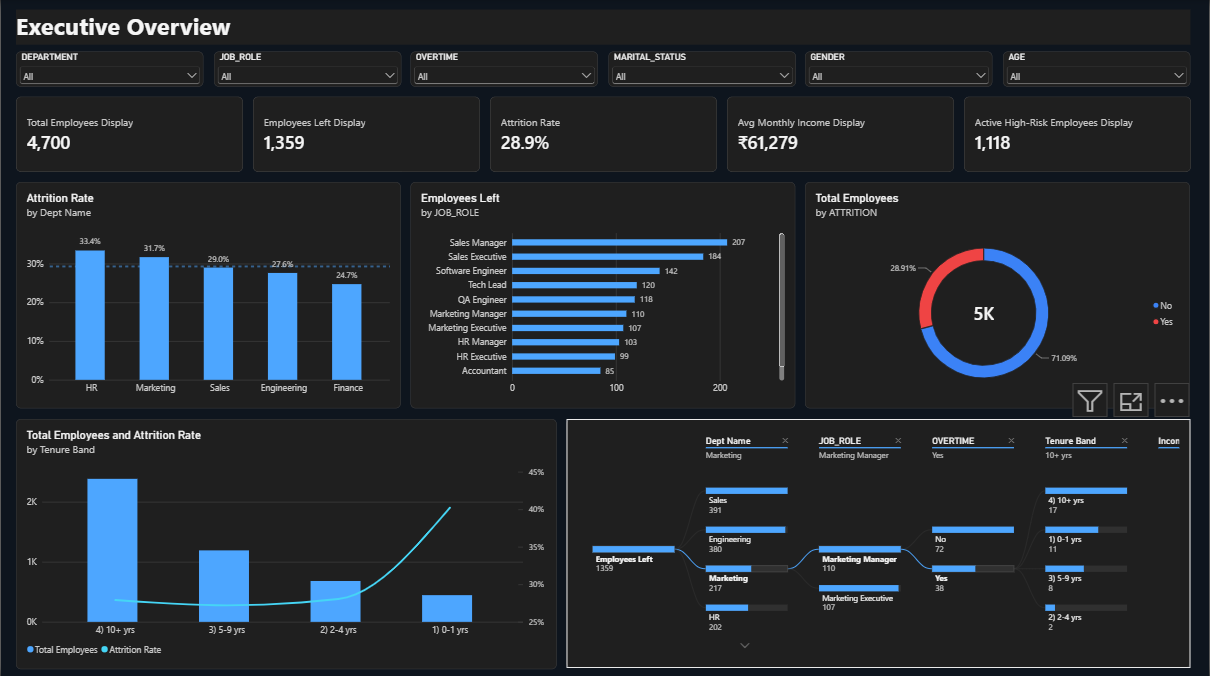

Layout of this report page (visuals, bound fields, positions):
{"tool":"powerbi","page":{"name":"Executive Overview","canvas":[1920,1080],"ordinal":0},"visuals":[{"type":"cardVisual","fields":{"Data":["HR_ATTRITION_FINAL.Total Employees Display"]},"box":[24,156,361,120],"z":0},{"type":"cardVisual","fields":{"Data":["HR_ATTRITION_FINAL.Employees Left Display"]},"box":[401,156,361,120],"z":1000},{"type":"cardVisual","fields":{"Data":["_Measures.Attrition Rate"]},"box":[778,156,361,120],"z":2000},{"type":"cardVisual","fields":{"Data":["HR_ATTRITION_FINAL.Avg Monthly Income Display"]},"box":[1155,156,361,120],"z":3000},{"type":"cardVisual","fields":{"Data":["HR_ATTRITION_FINAL.Active High-Risk Employees Display"]},"box":[1532,156,361,120],"z":4000},{"type":"slicer","fields":{"Values":["HR_ATTRITION_FINAL.JOB_ROLE"]},"box":[338,84,298,56],"z":5000},{"type":"slicer","fields":{"Values":["HR_ATTRITION_FINAL.OVERTIME"]},"box":[652,84,298,56],"z":6000},{"type":"slicer","fields":{"Values":["HR_ATTRITION_FINAL.AGE"]},"box":[1594,84,298,56],"z":7000},{"type":"slicer","fields":{"Values":["HR_ATTRITION_FINAL.MARITAL_STATUS"]},"box":[966,84,298,56],"z":8000},{"type":"slicer","fields":{"Values":["HR_ATTRITION_FINAL.GENDER"]},"box":[1280,84,298,56],"z":9000},{"type":"slicer","fields":{"Values":["HR_ATTRITION_FINAL.DEPARTMENT"]},"box":[24,84,298,56],"z":10000},{"type":"clusteredColumnChart","fields":{"Category":["HR_ATTRITION_FINAL.Dept Name"],"Y":["_Measures.Attrition Rate"]},"box":[24,292,612,360],"z":11000},{"type":"donutChart","fields":{"Category":["HR_ATTRITION_FINAL.ATTRITION"],"Y":["_Measures.Total Employees"]},"box":[1280,292,612,360],"z":12000},{"type":"clusteredBarChart","fields":{"Category":["HR_ATTRITION_FINAL.JOB_ROLE"],"Y":["_Measures.Employees Left"]},"box":[652,292,612,360],"z":13000},{"type":"lineClusteredColumnComboChart","fields":{"Category":["HR_ATTRITION_FINAL.Tenure Band"],"Y":["_Measures.Total Employees"],"Y2":["_Measures.Attrition Rate"]},"box":[24,668,860,398],"z":14000},{"type":"decompositionTreeVisual","fields":{"Analyze":["_Measures.Employees Left"],"ExplainBy":["HR_ATTRITION_FINAL.Dept Name","HR_ATTRITION_FINAL.JOB_ROLE","HR_ATTRITION_FINAL.OVERTIME","HR_ATTRITION_FINAL.Tenure Band","HR_ATTRITION_FINAL.Income Band"]},"box":[900,668,992,396],"z":15000},{"type":"textbox","box":[24,16,1868,56],"z":16000}]}

Visuals, with their boxes in screenshot pixels (x1, y1, x2, y2), scaled from the page's 1920x1080 canvas onto the 1210x676 screenshot:
cardVisual - HR_ATTRITION_FINAL.Total Employees Display: select_region(15, 98, 243, 173)
cardVisual - HR_ATTRITION_FINAL.Employees Left Display: select_region(253, 98, 480, 173)
cardVisual - _Measures.Attrition Rate: select_region(490, 98, 718, 173)
cardVisual - HR_ATTRITION_FINAL.Avg Monthly Income Display: select_region(728, 98, 955, 173)
cardVisual - HR_ATTRITION_FINAL.Active High-Risk Employees Display: select_region(965, 98, 1193, 173)
slicer - HR_ATTRITION_FINAL.JOB_ROLE: select_region(213, 53, 401, 88)
slicer - HR_ATTRITION_FINAL.OVERTIME: select_region(411, 53, 599, 88)
slicer - HR_ATTRITION_FINAL.AGE: select_region(1005, 53, 1192, 88)
slicer - HR_ATTRITION_FINAL.MARITAL_STATUS: select_region(609, 53, 797, 88)
slicer - HR_ATTRITION_FINAL.GENDER: select_region(807, 53, 994, 88)
slicer - HR_ATTRITION_FINAL.DEPARTMENT: select_region(15, 53, 203, 88)
clusteredColumnChart - HR_ATTRITION_FINAL.Dept Name x _Measures.Attrition Rate: select_region(15, 183, 401, 408)
donutChart - HR_ATTRITION_FINAL.ATTRITION x _Measures.Total Employees: select_region(807, 183, 1192, 408)
clusteredBarChart - HR_ATTRITION_FINAL.JOB_ROLE x _Measures.Employees Left: select_region(411, 183, 797, 408)
lineClusteredColumnComboChart - HR_ATTRITION_FINAL.Tenure Band x _Measures.Total Employees: select_region(15, 418, 557, 667)
decompositionTreeVisual - _Measures.Employees Left x HR_ATTRITION_FINAL.Dept Name: select_region(567, 418, 1192, 666)
textbox: select_region(15, 10, 1192, 45)
